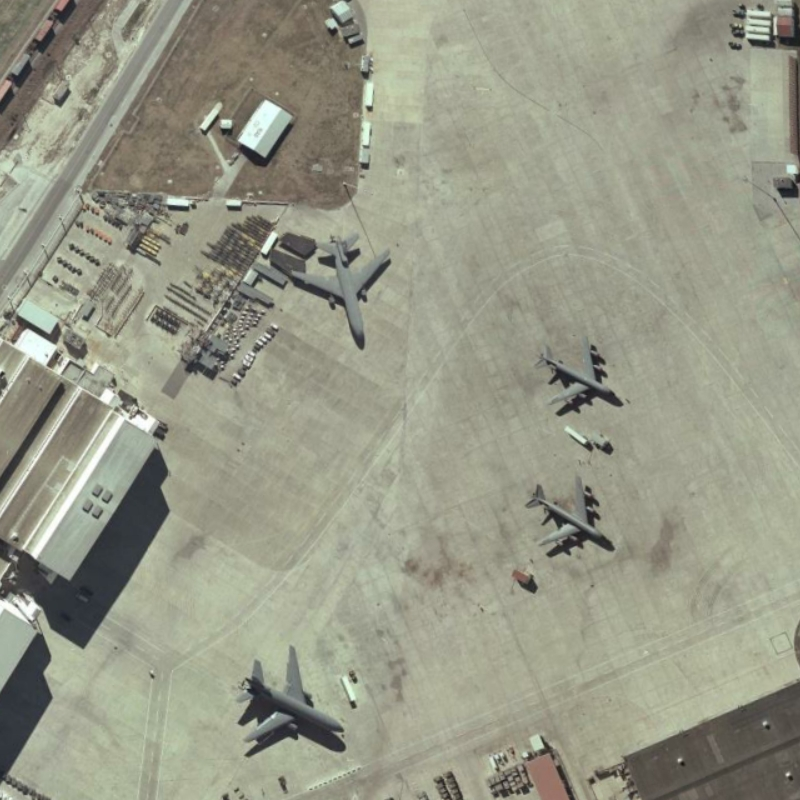A14: (517, 466, 620, 561), (527, 323, 624, 419)
A18: (228, 639, 348, 756), (283, 227, 399, 348)
